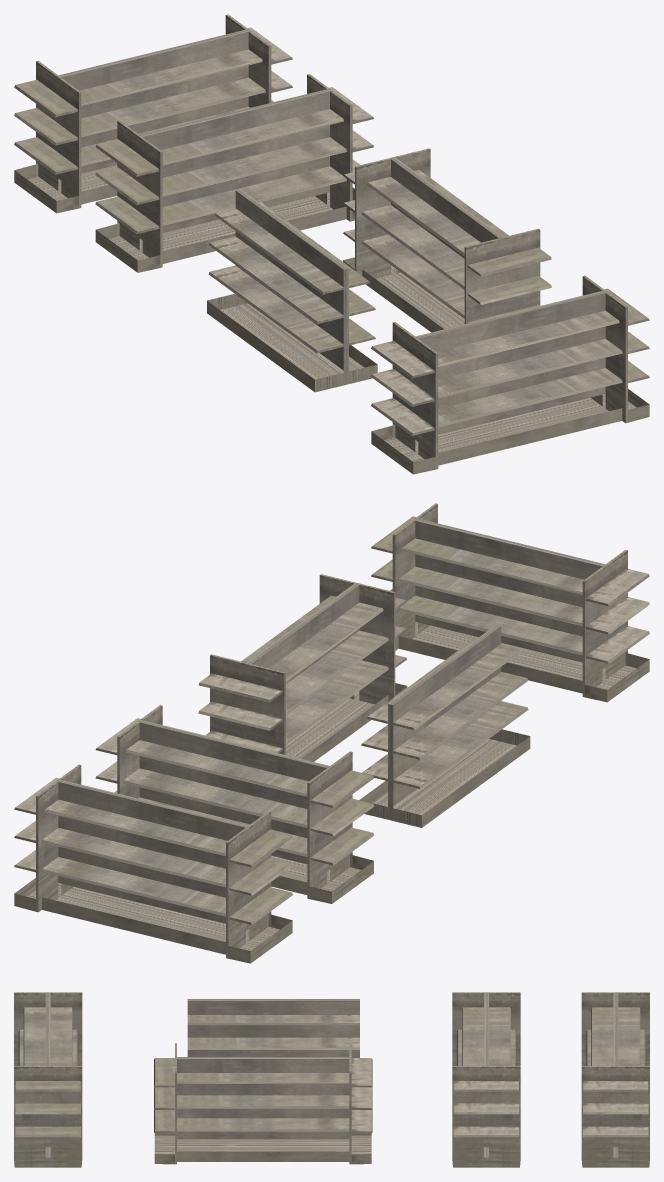
The picture shows the model from 3 angles, top to bottom: view 1: azimuth 30°, elevation 25°; view 2: azimuth 150°, elevation 25°; view 3: azimuth 270°, elevation 25°; orthographic projection. The views are drawn at different scales.
Parts seen in each view (by area): view 1: Material_008-material.019, Material_008-material.017, Material_008-material.007, Material_008-material.018, Material_008-material.002; view 2: Material_008-material.007, Material_008-material.019, Material_008-material.017, Material_008-material.018, Material_008-material.002; view 3: Material_008-material.018, Material_008-material.017, Material_008-material.019, Material_008-material.007, Material_008-material.002.
Part boxes in pixels (x1,y1,x2,y2): Material_008-material.019: (371, 275, 649, 474); Material_008-material.017: (95, 74, 373, 272); Material_008-material.007: (14, 14, 292, 213); Material_008-material.018: (343, 148, 551, 332); Material_008-material.002: (207, 189, 377, 392); Material_008-material.007: (14, 764, 292, 963); Material_008-material.019: (371, 503, 649, 702); Material_008-material.017: (95, 705, 374, 903); Material_008-material.018: (198, 574, 407, 761); Material_008-material.002: (359, 625, 530, 827); Material_008-material.018: (154, 1043, 372, 1164); Material_008-material.017: (452, 992, 520, 1167); Material_008-material.019: (14, 992, 82, 1167); Material_008-material.007: (581, 992, 649, 1167); Material_008-material.002: (187, 999, 359, 1057).
Size of the model in its own units: 16.79 by 7.8 by 48.81.
Materials: 1 (1 with a texture image).
